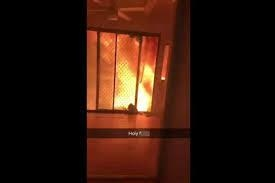fire: (109, 54, 154, 111)
